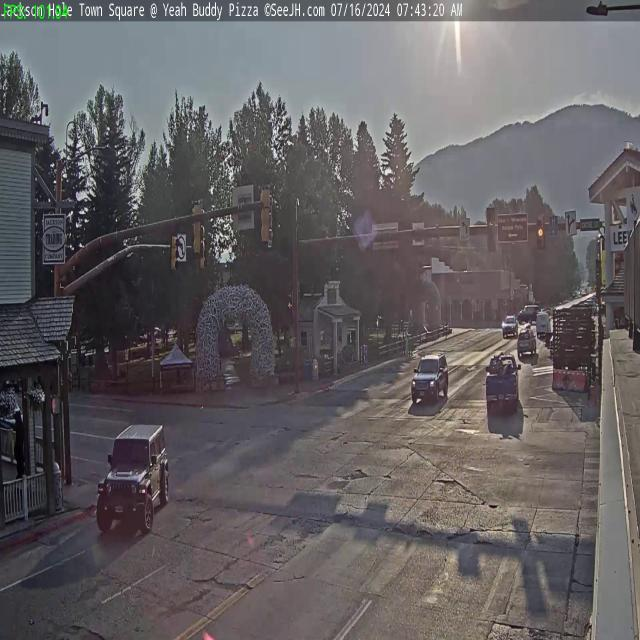pickup: (486, 355, 516, 411)
suv: (96, 423, 169, 537), (412, 351, 449, 405), (516, 324, 536, 355), (501, 313, 519, 338)
traffic light: (260, 184, 272, 244), (190, 200, 203, 255), (487, 208, 498, 255), (170, 235, 178, 272), (536, 215, 544, 247)
